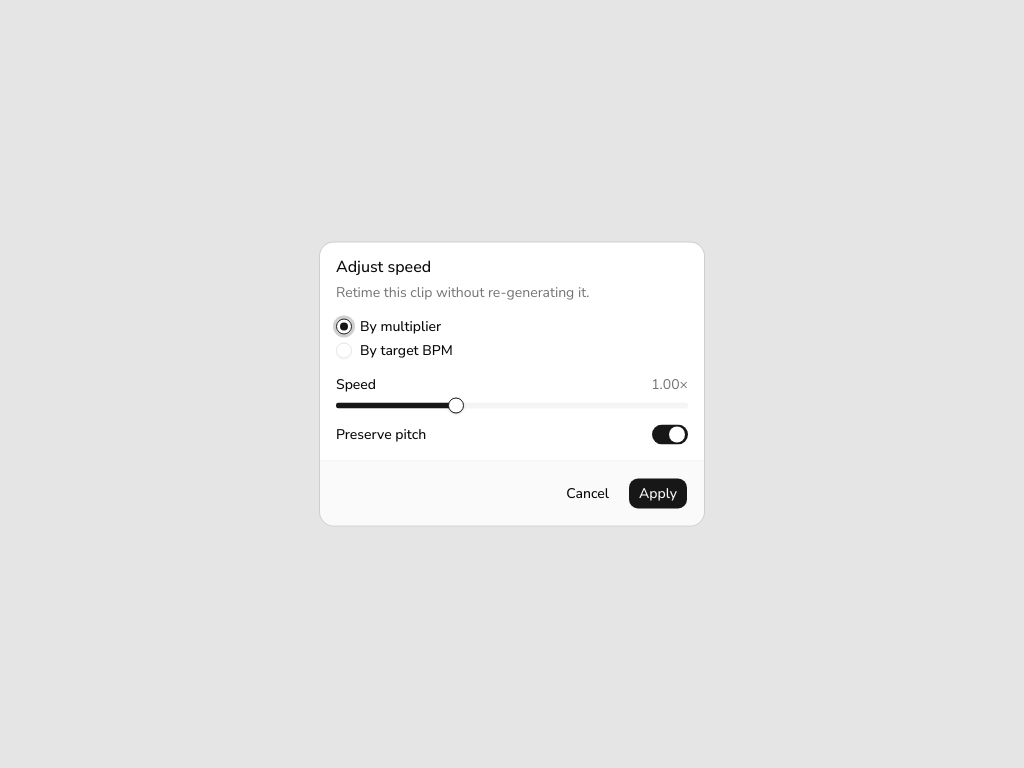
SpeedModal › submits a multiplier payload and reaches success
Click the button "Apply" at x=658, y=494, box [628,478,688,510]
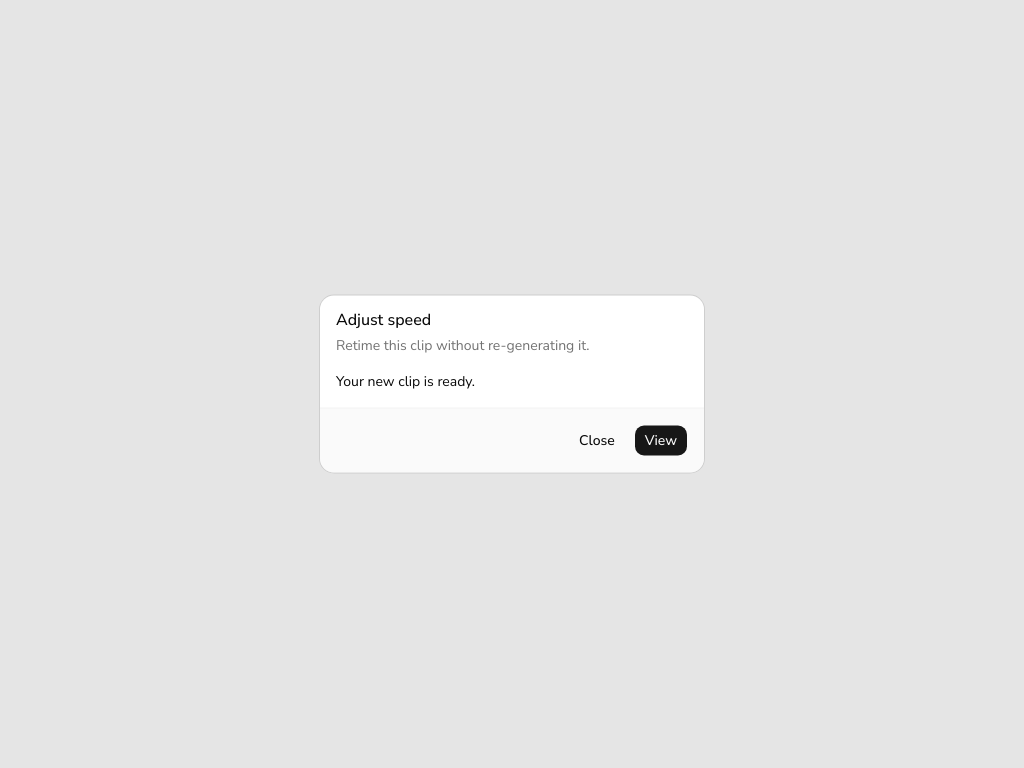
Check: the text "Your new clip is ready." is shown, box [336,372,475,390]
